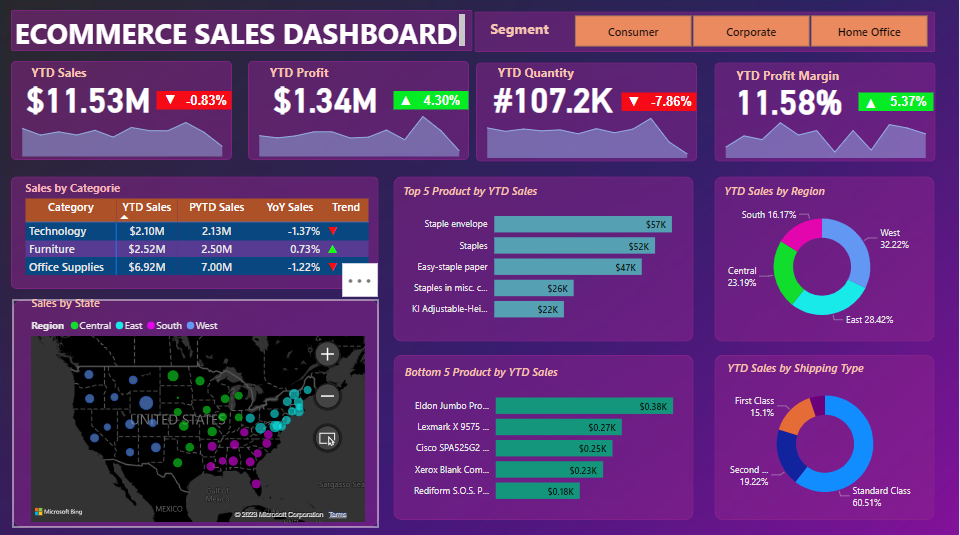

The page's visual inventory and layout, read from the dashboard file:
{"tool":"powerbi","page":{"name":"Page 1","canvas":[1280,720],"ordinal":0},"visuals":[{"type":"shape","box":[15.1,17,615.5,54.7],"z":0},{"type":"textbox","box":[15,15,610,56.2],"z":1000},{"type":"shape","box":[17,85,294.5,132.2],"z":2000},{"type":"card","fields":{"Values":["ecommerce_data.YTD Sales"]},"box":[30.2,96.3,177.5,69.9],"z":3000},{"type":"shape","box":[209.6,124.6,100.1,24.5],"z":4000},{"type":"areaChart","fields":{"Y":["Sum(ecommerce_data.sales_per_order)"],"Category":["Calendar.Month"]},"box":[16,144,296,72],"z":5000},{"type":"card","fields":{"Values":["ecommerce_data.YoY Sales"]},"box":[241.2,122.5,68.8,30],"z":6000},{"type":"card","fields":{"Values":["ecommerce_data.Sales Icon"]},"box":[209.6,122.7,35.9,30.2],"z":7000},{"type":"textbox","box":[37.8,81.2,96.3,34],"z":8000},{"type":"shape","box":[332.5,84,294.5,132.2],"z":9000},{"type":"card","fields":{"Values":["ecommerce_data.YTD Profit"]},"box":[345.7,95.3,177.5,69.9],"z":10000},{"type":"areaChart","fields":{"Category":["Calendar.Month"],"Y":["Sum(ecommerce_data.profit_per_order)"]},"box":[332,142,296,74],"z":11000},{"type":"shape","box":[525.1,123.6,100.1,24.5],"z":12000},{"type":"card","fields":{"Values":["ecommerce_data.YoY Profit"]},"box":[556.8,121.5,68.8,30],"z":13000},{"type":"card","fields":{"Values":["ecommerce_data.Sales Profit"]},"box":[524.3,121.4,35.7,30.7],"z":14000},{"type":"textbox","box":[356.2,81.2,96.2,33.8],"z":15000},{"type":"shape","box":[636.8,85.6,294.5,132.2],"z":16000},{"type":"card","fields":{"Values":["ecommerce_data.YTD_Concatenenated Qty"]},"box":[650,96.9,177.5,69.9],"z":17000},{"type":"areaChart","fields":{"Category":["Calendar.Month"],"Y":["Sum(ecommerce_data.order_quantity)"]},"box":[636.3,143.6,296,74],"z":18000},{"type":"shape","box":[829.3,125.2,100.1,24.5],"z":19000},{"type":"card","fields":{"Values":["ecommerce_data.YoY Quantity"]},"box":[861,123.1,68.8,30],"z":20000},{"type":"card","fields":{"Values":["ecommerce_data.Qty Icon"]},"box":[827.5,123.3,35.8,30],"z":21000},{"type":"textbox","box":[660,82.9,124.3,34.3],"z":22000},{"type":"shape","box":[954.2,86.8,294.5,132.2],"z":23000},{"type":"card","fields":{"Values":["ecommerce_data.YTD Profit Margin"]},"box":[964.2,98.3,177.5,70],"z":24000},{"type":"areaChart","fields":{"Category":["Calendar.Month"],"Y":["ecommerce_data.Profit Margin"]},"box":[953.7,144.8,296,74],"z":25000},{"type":"shape","box":[1146.7,126.5,100.1,24.5],"z":26000},{"type":"card","fields":{"Values":["ecommerce_data.YoY Profit Margin"]},"box":[1178.4,124.4,68.8,30],"z":27000},{"type":"card","fields":{"Values":["ecommerce_data.Profit Margin Icon"]},"box":[1144.2,125,35.8,30],"z":28000},{"type":"textbox","box":[977.5,85,161.7,33.3],"z":29000},{"type":"shape","box":[16.7,237.5,490,150],"z":30000},{"type":"actionButton","box":[0,0,100,40],"z":31000},{"type":"pivotTable","title":"Sales by Categorie","fields":{"Rows":["ecommerce_data.category_name"],"Values":["ecommerce_data.YTD Sales","ecommerce_data.PYTD Sales","ecommerce_data.YoY Sales","ecommerce_data.Sales Icon"]},"box":[30,242.5,476.2,145],"z":32000},{"type":"shape","box":[18.3,401.7,488.3,303.3],"z":33000},{"type":"map","title":"Sales by State","fields":{"Y":["us_state_long_lat_codes.latitude"],"X":["us_state_long_lat_codes.longitude"],"Size":["ecommerce_data.YoY Sales"],"Series":["ecommerce_data.customer_region"]},"box":[38.3,396.7,455,308.3],"z":34000},{"type":"shape","box":[525,238.3,400,220],"z":34001},{"type":"shape","box":[526.7,475,400,220],"z":34002},{"type":"barChart","title":"Top 5 Product by YTD Sales","fields":{"Category":["ecommerce_data.product_name"],"Y":["ecommerce_data.YTD Sales"]},"box":[533.3,246.7,380,196.7],"z":34003},{"type":"barChart","title":"Bottom 5 Product by YTD Sales","fields":{"Category":["ecommerce_data.product_name"],"Y":["ecommerce_data.YTD Sales"]},"box":[535,488.3,380,196.7],"z":34004},{"type":"shape","box":[953.3,238.3,293.3,220],"z":34005},{"type":"shape","box":[953.3,475,293.3,220],"z":34006},{"type":"donutChart","title":"YTD Sales by Region","fields":{"Category":["ecommerce_data.customer_region"],"Y":["ecommerce_data.YTD Sales"]},"box":[961.4,245.7,270,204.3],"z":34007},{"type":"donutChart","title":"YTD Sales by Shipping Type","fields":{"Y":["ecommerce_data.YTD Sales"],"Category":["ecommerce_data.shipping_type"]},"box":[965.7,482.9,270,204.3],"z":34008},{"type":"shape","box":[634.3,17.1,614.3,54.3],"z":34009},{"type":"slicer","fields":{"Values":["ecommerce_data.customer_segment"]},"box":[742.9,15.7,520,55.7],"z":34010},{"type":"textbox","box":[650,22.9,97.1,41.4],"z":34011}]}

Visuals, with their boxes in screenshot pixels (x1, y1, x2, y2), scaled from the page's 1280x720 canvas onto the 960x535 screenshot:
shape: {"left": 11, "top": 13, "right": 473, "bottom": 53}
textbox: {"left": 11, "top": 11, "right": 469, "bottom": 53}
shape: {"left": 13, "top": 63, "right": 234, "bottom": 161}
card - ecommerce_data.YTD Sales: {"left": 23, "top": 72, "right": 156, "bottom": 123}
shape: {"left": 157, "top": 93, "right": 232, "bottom": 111}
areaChart - Sum(ecommerce_data.sales_per_order) x Calendar.Month: {"left": 12, "top": 107, "right": 234, "bottom": 160}
card - ecommerce_data.YoY Sales: {"left": 181, "top": 91, "right": 232, "bottom": 113}
card - ecommerce_data.Sales Icon: {"left": 157, "top": 91, "right": 184, "bottom": 114}
textbox: {"left": 28, "top": 60, "right": 101, "bottom": 86}
shape: {"left": 249, "top": 62, "right": 470, "bottom": 161}
card - ecommerce_data.YTD Profit: {"left": 259, "top": 71, "right": 392, "bottom": 123}
areaChart - Calendar.Month x Sum(ecommerce_data.profit_per_order): {"left": 249, "top": 106, "right": 471, "bottom": 160}
shape: {"left": 394, "top": 92, "right": 469, "bottom": 110}
card - ecommerce_data.YoY Profit: {"left": 418, "top": 90, "right": 469, "bottom": 113}
card - ecommerce_data.Sales Profit: {"left": 393, "top": 90, "right": 420, "bottom": 113}
textbox: {"left": 267, "top": 60, "right": 339, "bottom": 85}
shape: {"left": 478, "top": 64, "right": 698, "bottom": 162}
card - ecommerce_data.YTD_Concatenenated Qty: {"left": 488, "top": 72, "right": 621, "bottom": 124}
areaChart - Calendar.Month x Sum(ecommerce_data.order_quantity): {"left": 477, "top": 107, "right": 699, "bottom": 162}
shape: {"left": 622, "top": 93, "right": 697, "bottom": 111}
card - ecommerce_data.YoY Quantity: {"left": 646, "top": 91, "right": 697, "bottom": 114}
card - ecommerce_data.Qty Icon: {"left": 621, "top": 92, "right": 647, "bottom": 114}
textbox: {"left": 495, "top": 62, "right": 588, "bottom": 87}
shape: {"left": 716, "top": 64, "right": 937, "bottom": 163}
card - ecommerce_data.YTD Profit Margin: {"left": 723, "top": 73, "right": 856, "bottom": 125}
areaChart - Calendar.Month x ecommerce_data.Profit Margin: {"left": 715, "top": 108, "right": 937, "bottom": 163}
shape: {"left": 860, "top": 94, "right": 935, "bottom": 112}
card - ecommerce_data.YoY Profit Margin: {"left": 884, "top": 92, "right": 935, "bottom": 115}
card - ecommerce_data.Profit Margin Icon: {"left": 858, "top": 93, "right": 885, "bottom": 115}
textbox: {"left": 733, "top": 63, "right": 854, "bottom": 88}
shape: {"left": 13, "top": 176, "right": 380, "bottom": 288}
actionButton: {"left": 0, "top": 0, "right": 75, "bottom": 30}
"Sales by Categorie" pivotTable: {"left": 22, "top": 180, "right": 380, "bottom": 288}
shape: {"left": 14, "top": 298, "right": 380, "bottom": 524}
"Sales by State" map: {"left": 29, "top": 295, "right": 370, "bottom": 524}
shape: {"left": 394, "top": 177, "right": 694, "bottom": 341}
shape: {"left": 395, "top": 353, "right": 695, "bottom": 516}
"Top 5 Product by YTD Sales" barChart: {"left": 400, "top": 183, "right": 685, "bottom": 329}
"Bottom 5 Product by YTD Sales" barChart: {"left": 401, "top": 363, "right": 686, "bottom": 509}
shape: {"left": 715, "top": 177, "right": 935, "bottom": 341}
shape: {"left": 715, "top": 353, "right": 935, "bottom": 516}
"YTD Sales by Region" donutChart: {"left": 721, "top": 183, "right": 924, "bottom": 334}
"YTD Sales by Shipping Type" donutChart: {"left": 724, "top": 359, "right": 927, "bottom": 511}
shape: {"left": 476, "top": 13, "right": 936, "bottom": 53}
slicer - ecommerce_data.customer_segment: {"left": 557, "top": 12, "right": 947, "bottom": 53}
textbox: {"left": 488, "top": 17, "right": 560, "bottom": 48}
